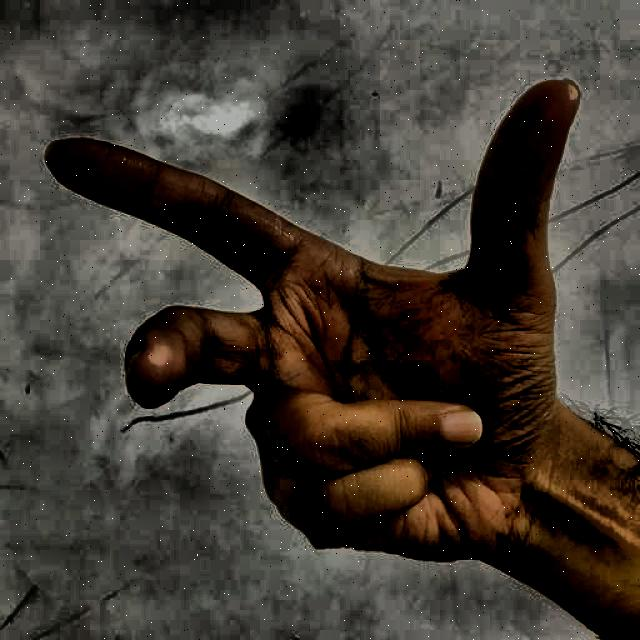Da: (26, 38, 612, 612)
